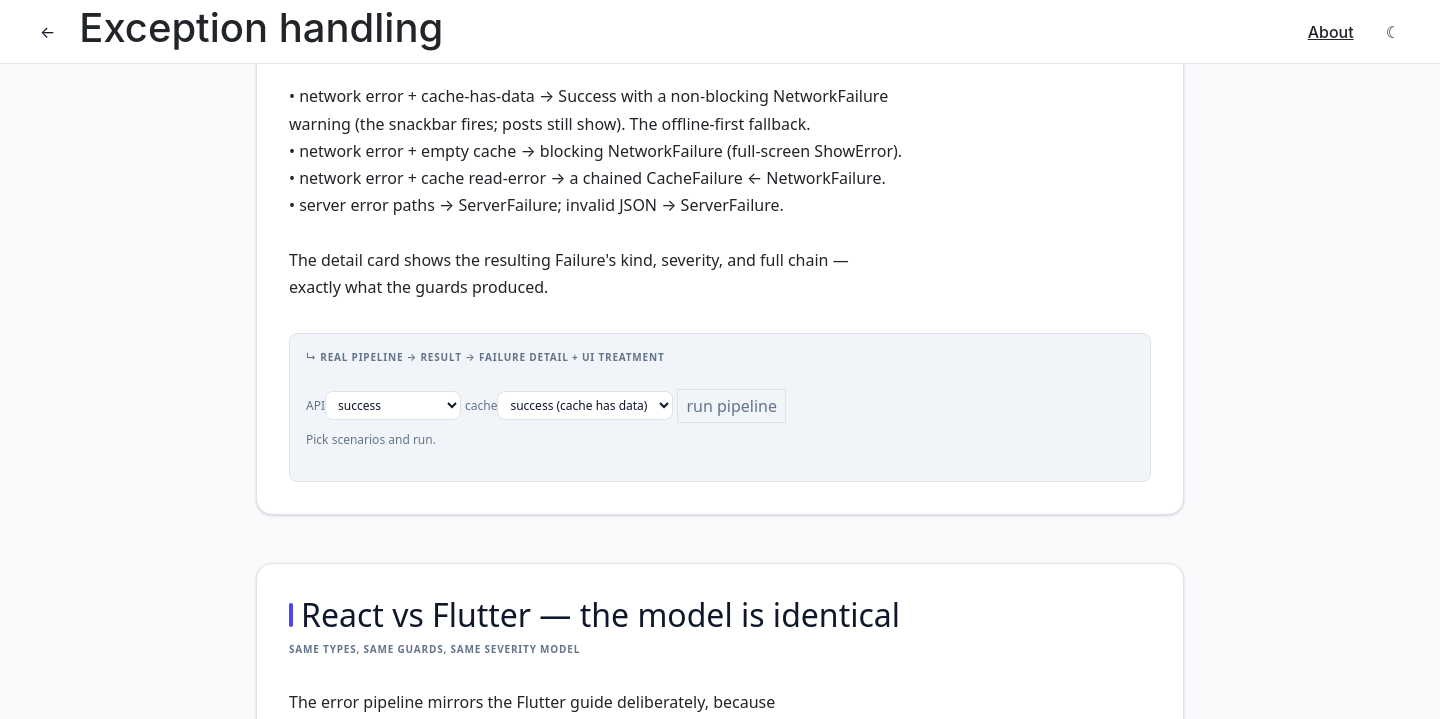
Exception handling screen › shows a blocking failure when the remote fails and the cache is empty
The width and height of the screenshot is (1440, 719).
(page scrolled)
Select "network error" in the dropdown labelled "API" at (393, 406), box [325,391,461,420]
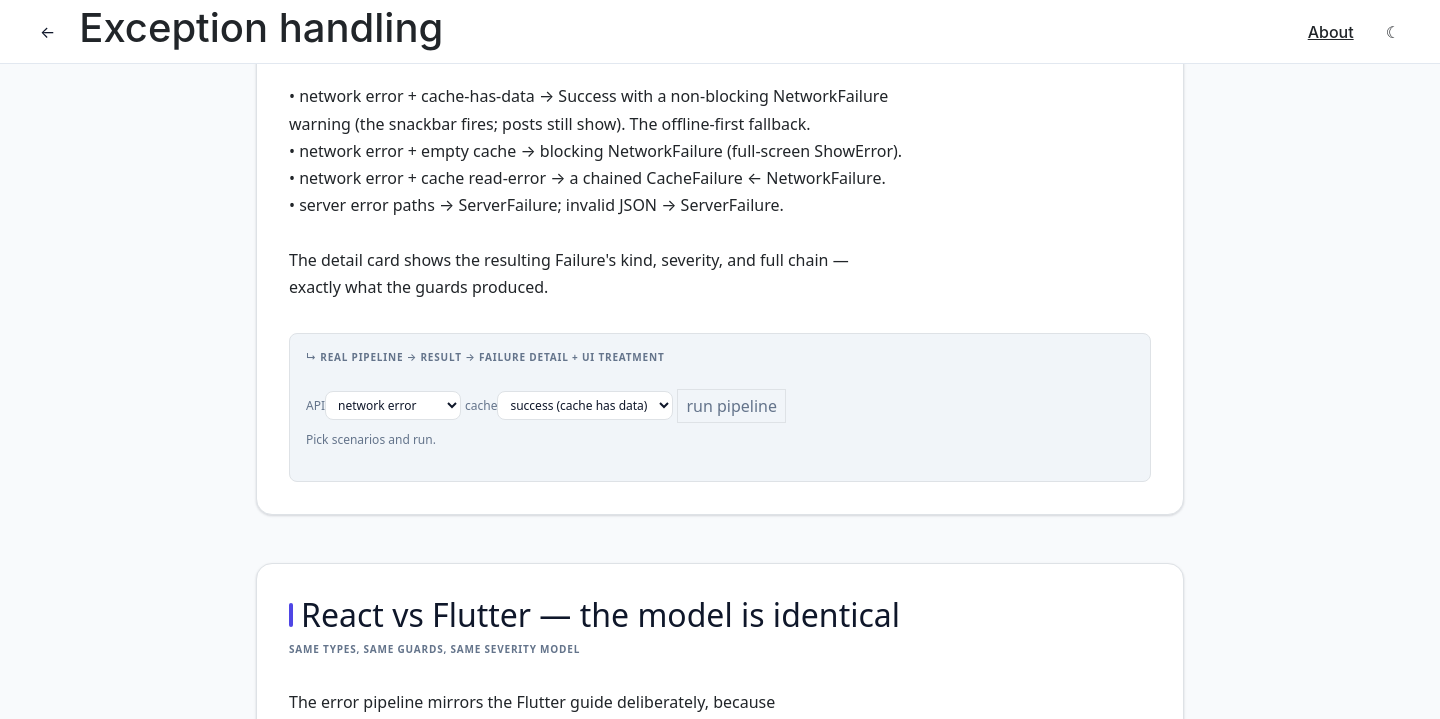
Select "empty cache" in the dropdown labelled "cache" at (585, 406), box [497,391,673,420]
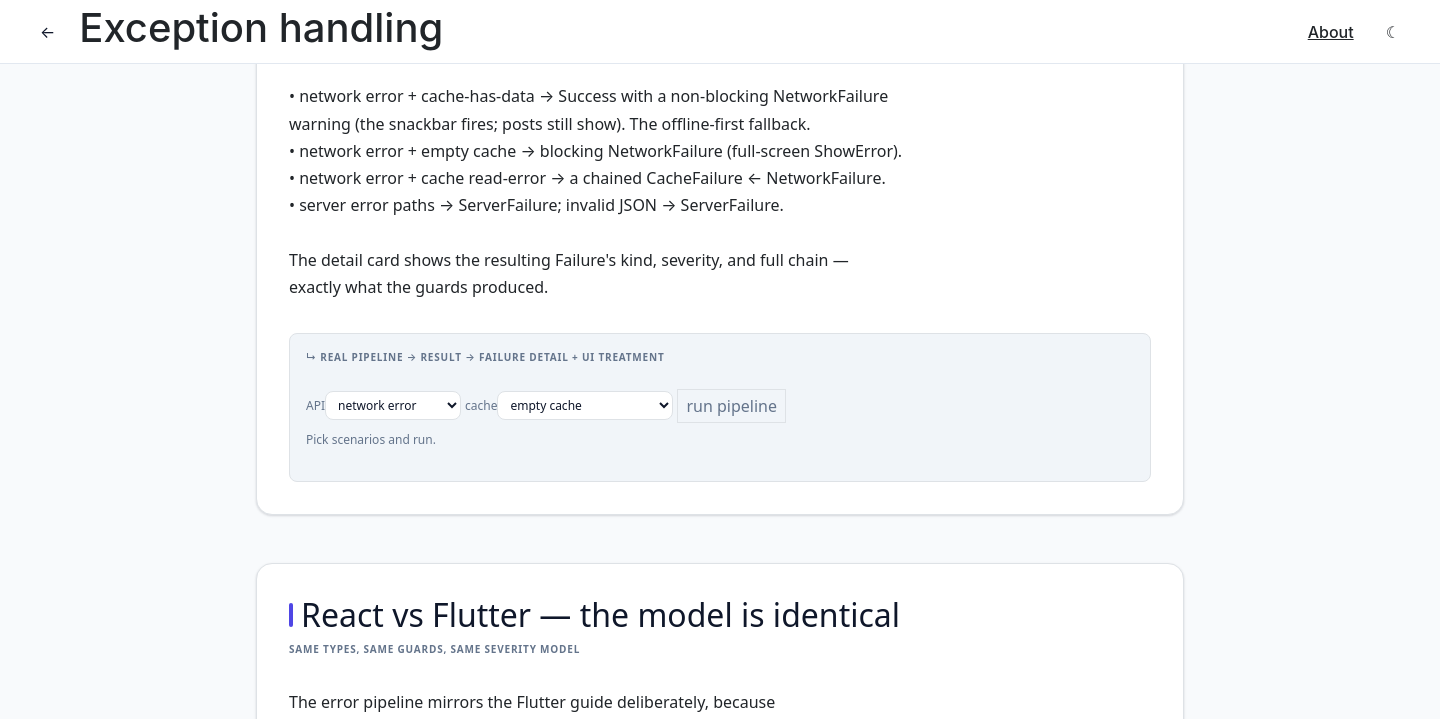
Click the button "run pipeline" at (732, 406), box [677,389,786,423]
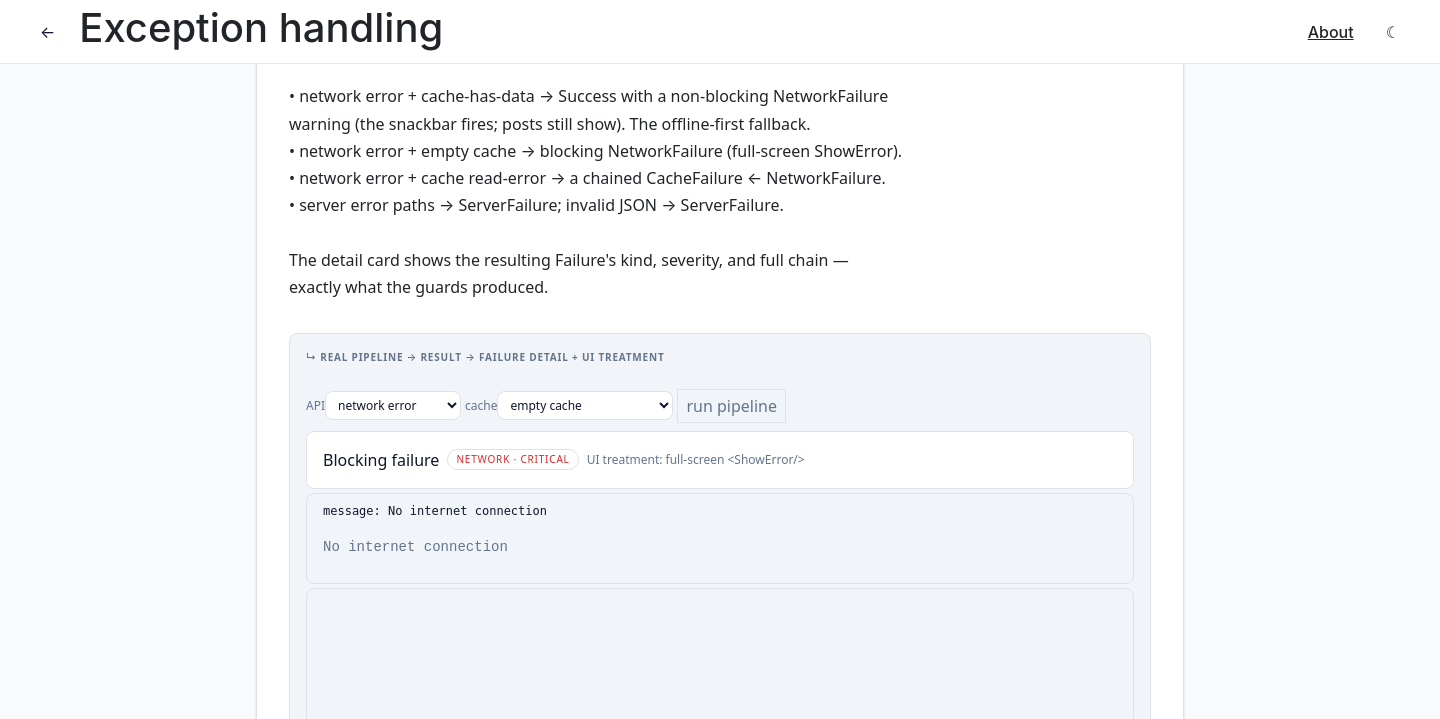
Expected: the text "network · critical" is shown, [447,449,579,470]
